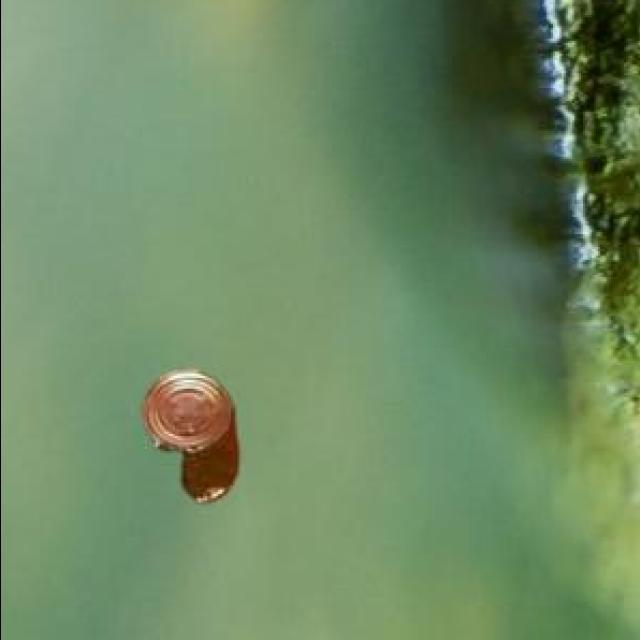logam: (145, 373, 239, 506)
